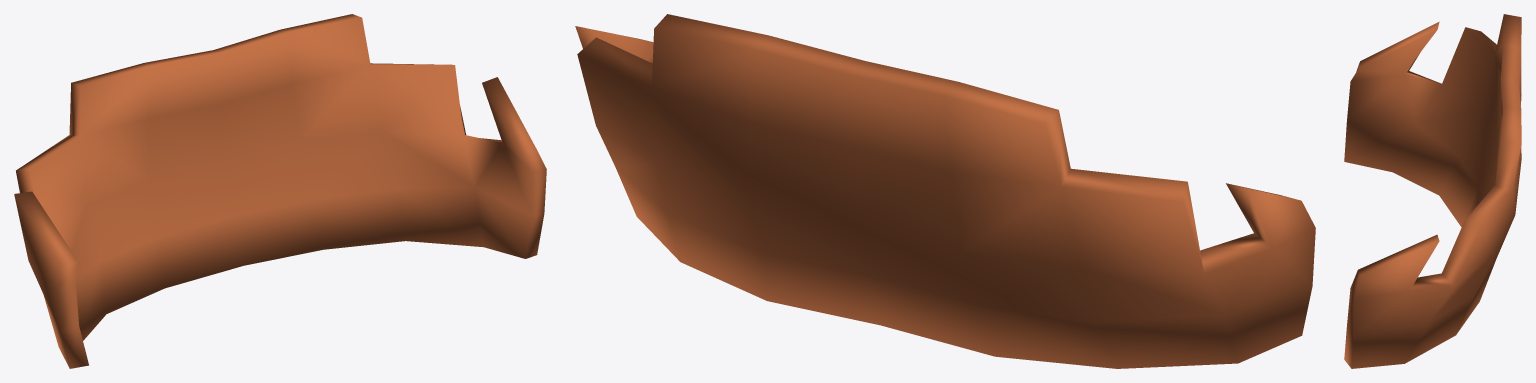
File: Armor_Backplate.fbx
3 views of the same model, side by side, from view 1: azimuth 30°, elevation 25°; view 2: azimuth 150°, elevation 25°; view 3: azimuth 270°, elevation 25° (orthographic). The views are drawn at different scales.
Visible parts, largest first — view 1: Armor_Backplate; view 2: Armor_Backplate; view 3: Armor_Backplate.
Boxes of the visible parts, x1=… form: Armor_Backplate: x1=14, y1=14, x2=546, y2=368; Armor_Backplate: x1=575, y1=14, x2=1315, y2=368; Armor_Backplate: x1=1344, y1=14, x2=1521, y2=368.
Bounding box in the file's own units: 0.2011 × 0.0805 × 0.068.
